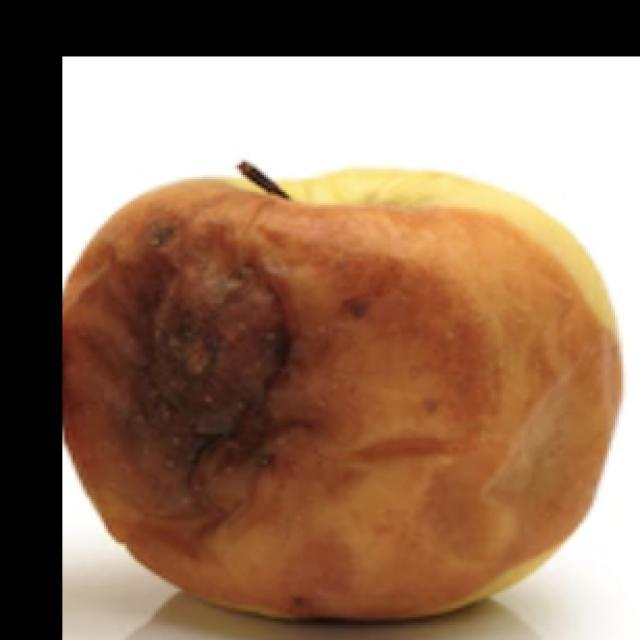Rotten: (58, 161, 618, 640)
